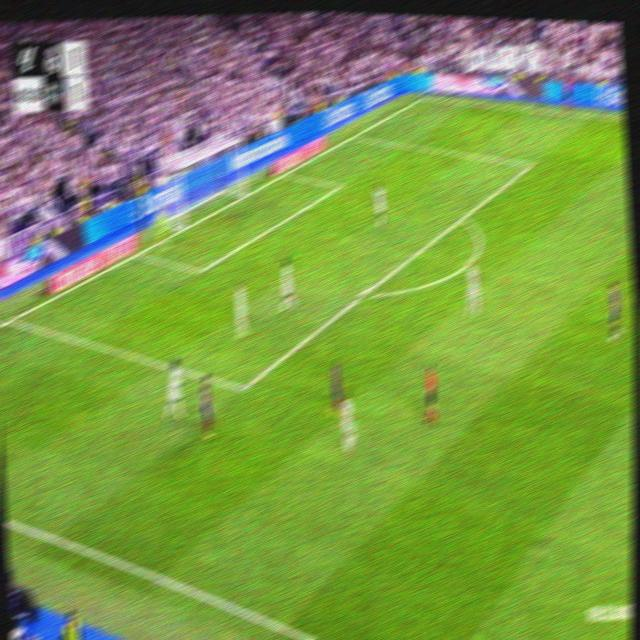bigarea_bottom_inner: (235, 375, 251, 400)
bigarea_bottom_outter: (3, 311, 16, 327)
bigarea_top_inner: (525, 155, 536, 170)
bottom_arc_area_intersection: (357, 283, 372, 304)
corner: (416, 90, 430, 102)
smallarea_bottom_inner: (193, 260, 206, 280)
smallarea_bottom_outter: (131, 246, 143, 261)
smallarea_top_inner: (335, 179, 343, 190)
top_arc_area_intersection: (457, 208, 469, 225)
